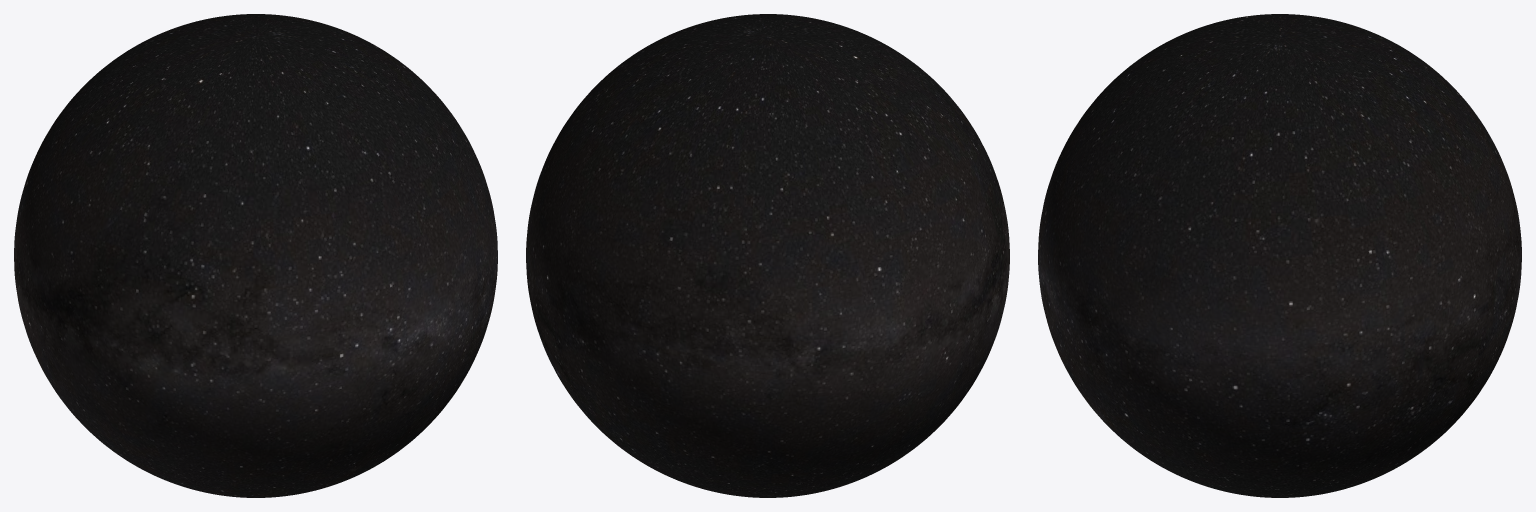
File: sky.fbx
The picture shows the model from 3 angles, left to right: view 1: azimuth 30°, elevation 25°; view 2: azimuth 150°, elevation 25°; view 3: azimuth 270°, elevation 25°; orthographic projection.
Visible parts, largest first — view 1: Earth_Sphere.001; view 2: Earth_Sphere.001; view 3: Earth_Sphere.001.
Part boxes in pixels (x1=…): Earth_Sphere.001: x1=14, y1=14, x2=497, y2=497; Earth_Sphere.001: x1=526, y1=14, x2=1009, y2=497; Earth_Sphere.001: x1=1038, y1=14, x2=1521, y2=497.
Size of the model in its own units: 2000 by 2000 by 2000.
1 material, 1 textured.
